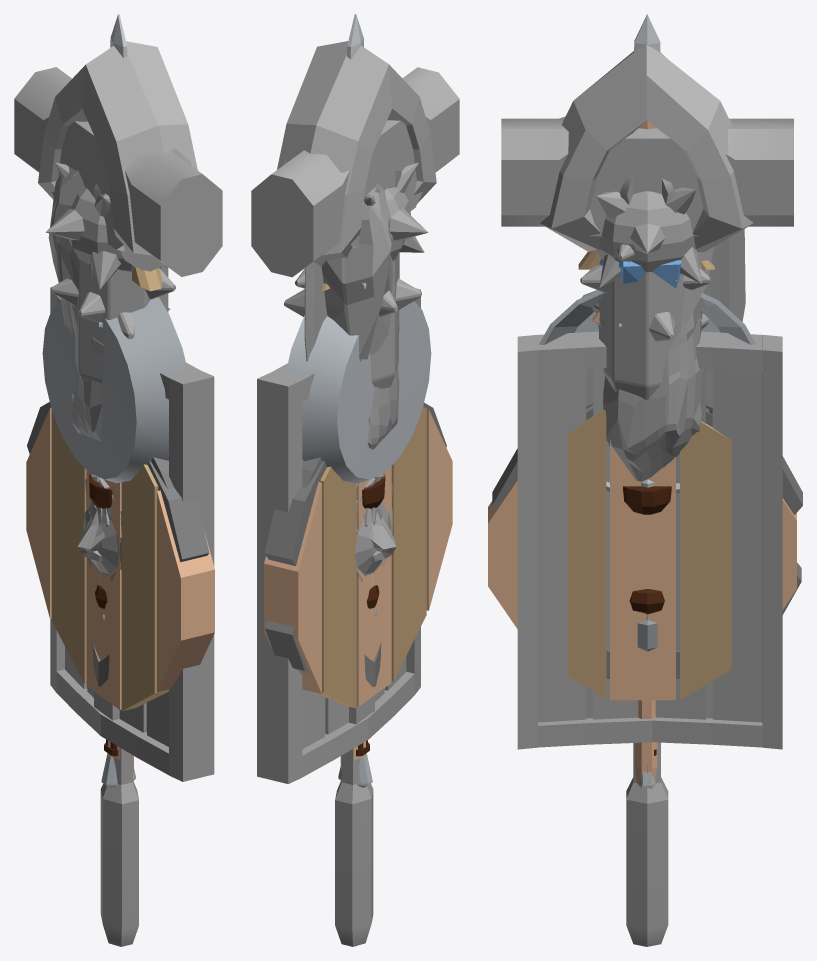
File: weapon.fbx
3 views of the same model, side by side, from view 1: azimuth 30°, elevation 25°; view 2: azimuth 150°, elevation 25°; view 3: azimuth 270°, elevation 25° (orthographic).
Parts seen in each view (by area): view 1: Sheild_wood, Sheild_tower, Staff_sorcerer, oneh_pan_01_oneh_pan_01, Hammer_smith, Staff_wooden, Club_giant, Club_stone, Sheild_circlesteel, Mace_morningstar, Sheild__, OnehandSword_claymore (+2 smaller); view 2: Sheild_wood, Sheild_tower, Hammer_smith, Staff_sorcerer, oneh_pan_01_oneh_pan_01, Club_stone, Staff_wooden, Sheild_circlesteel, Club_giant, Mace_morningstar, axe_01:pCube1, Sheild__ (+3 smaller); view 3: Sheild_tower, Sheild_wood, Staff_sorcerer, Hammer_smith, Club_stone, Club_giant, Staff_wooden, Mace_morningstar, oneh_pan_01_oneh_pan_01, axe_01:pCube1, Sheild_circlesteel, OnehandSword_gladius (+2 smaller).
Boxes of the visible parts, x1,y1,x2,y2 form: Sheild_wood: (26,407,214,711); Sheild_tower: (50,287,214,781); Staff_sorcerer: (38,41,197,782); oneh_pan_01_oneh_pan_01: (42,297,188,483); Hammer_smith: (14,67,222,759); Staff_wooden: (100,748,138,946); Club_giant: (51,259,175,385); Club_stone: (48,166,105,620); Sheild_circlesteel: (27,402,209,575); Mace_morningstar: (45,162,167,289); Sheild__: (77,474,121,581); OnehandSword_claymore: (101,14,135,787); Sheild_wood: (264,407,452,708); Sheild_tower: (257,288,420,783); Hammer_smith: (251,67,459,760); Staff_sorcerer: (277,41,436,770); oneh_pan_01_oneh_pan_01: (285,301,431,483); Club_stone: (321,185,399,616); Staff_wooden: (335,749,373,946); Sheild_circlesteel: (264,402,446,673); Club_giant: (284,252,421,388); Mace_morningstar: (361,162,428,289); axe_01:pCube1: (304,262,327,361); Sheild__: (356,472,396,581); Sheild_tower: (517,331,782,749); Sheild_wood: (488,410,796,700); Staff_sorcerer: (540,45,753,789); Hammer_smith: (501,116,793,236); Club_stone: (597,247,713,481); Club_giant: (580,244,711,399); Staff_wooden: (626,742,668,946); Mace_morningstar: (596,187,701,287); oneh_pan_01_oneh_pan_01: (539,290,755,493); axe_01:pCube1: (702,229,745,326); Sheild_circlesteel: (492,408,802,678); OnehandSword_gladius: (623,486,671,614).
Bounding box in the file's own units: 0.2579 × 1.5 × 0.4631.
